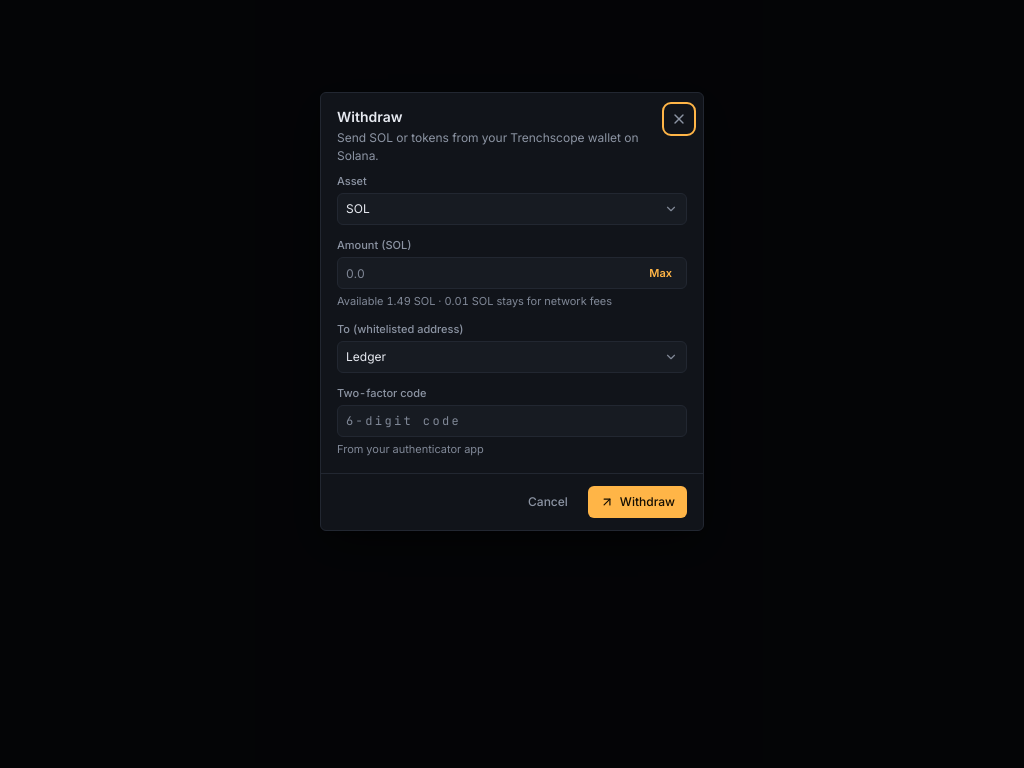
Test: WithdrawDialog form › Max keeps the fee reserve; too much, no code and bad input are refused before sending
expect the button named "To (whitelisted address) Ledger" is shown: met, box [337,341,687,373]
expect the text "Available 1.49 SOL · 0.01 SOL stays for network fees" is shown: met, box [337,294,612,308]
Click the button with aria-label "Withdraw the maximum" at (661, 273), box [643,263,678,283]
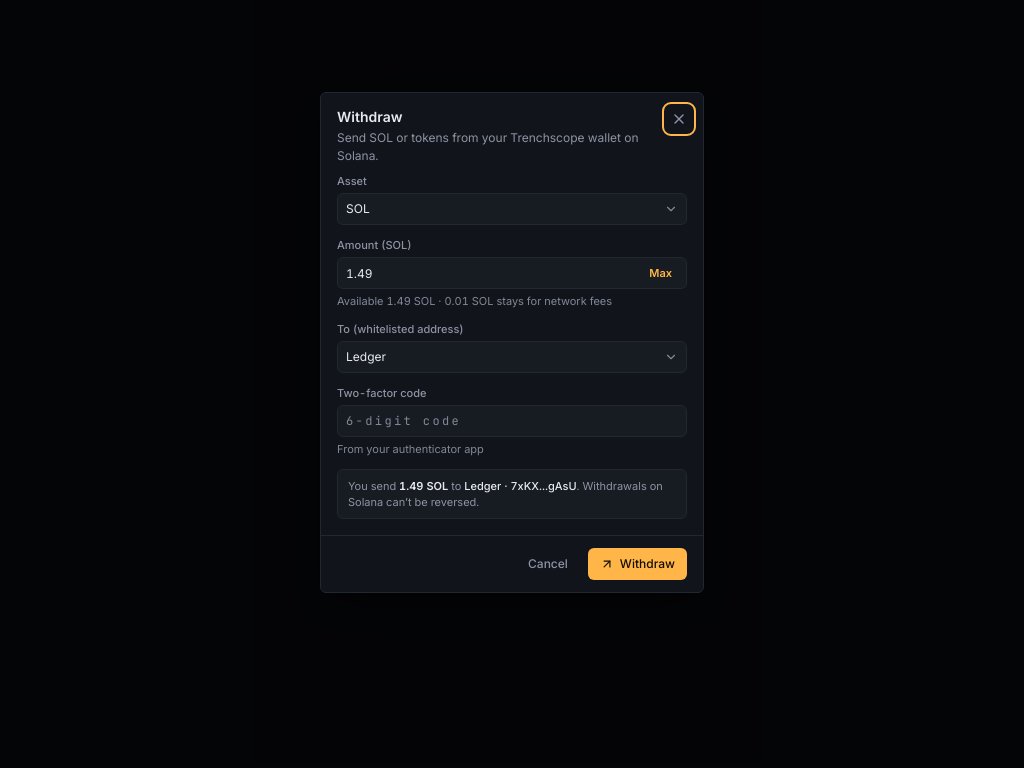
expect the field labelled "Amount (SOL)" holds "1.49": met
Replace the text in the field labelled "Amount (SOL)" with "1.495" at (492, 273), box [346,258,637,288]
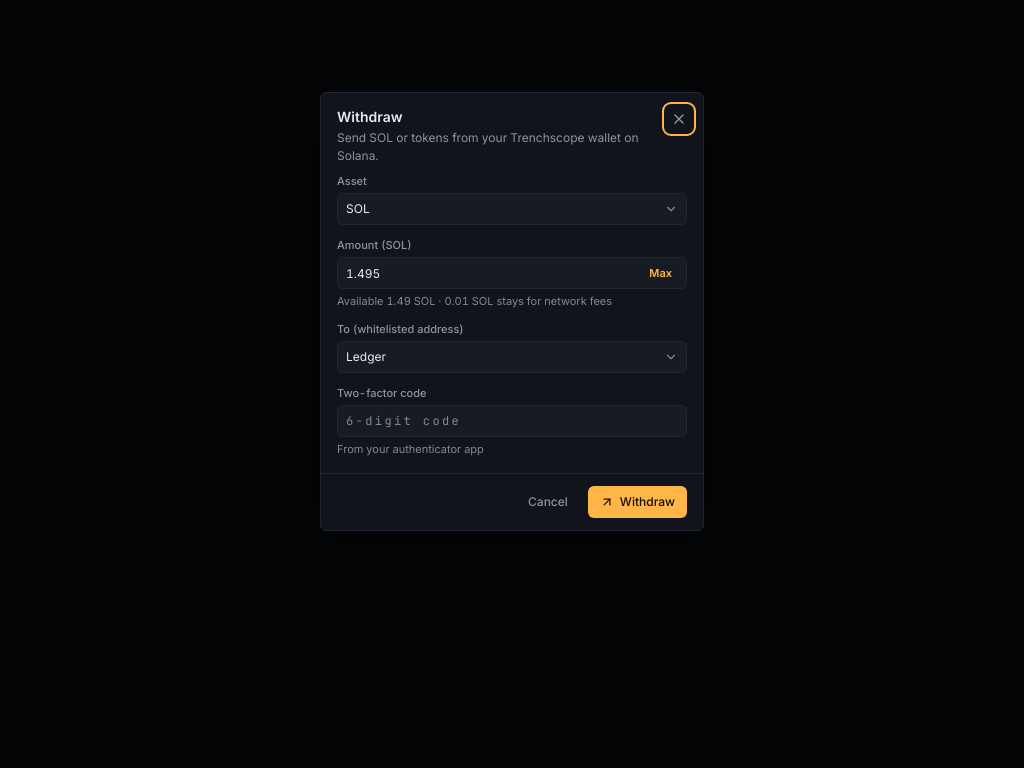
Click the button "Withdraw" at (637, 502), box [588,486,687,518]
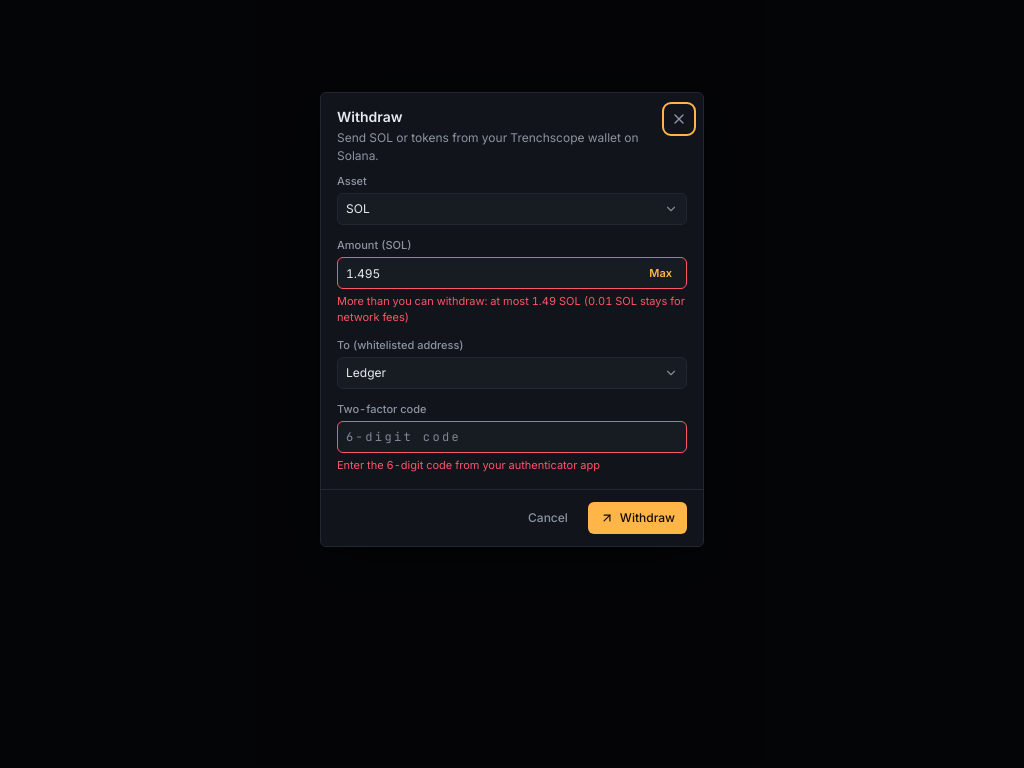
expect the text "More than you can withdraw: at most 1.49 SOL (0.01 SOL stays for network fees)" is shown: met, box [337,293,687,325]
expect the text "Enter the 6-digit code from your authenticator app" is shown: met, box [337,458,600,472]
Replace the text in the field labelled "Amount (SOL)" with "1,5abc" at (492, 273), box [346,258,637,288]
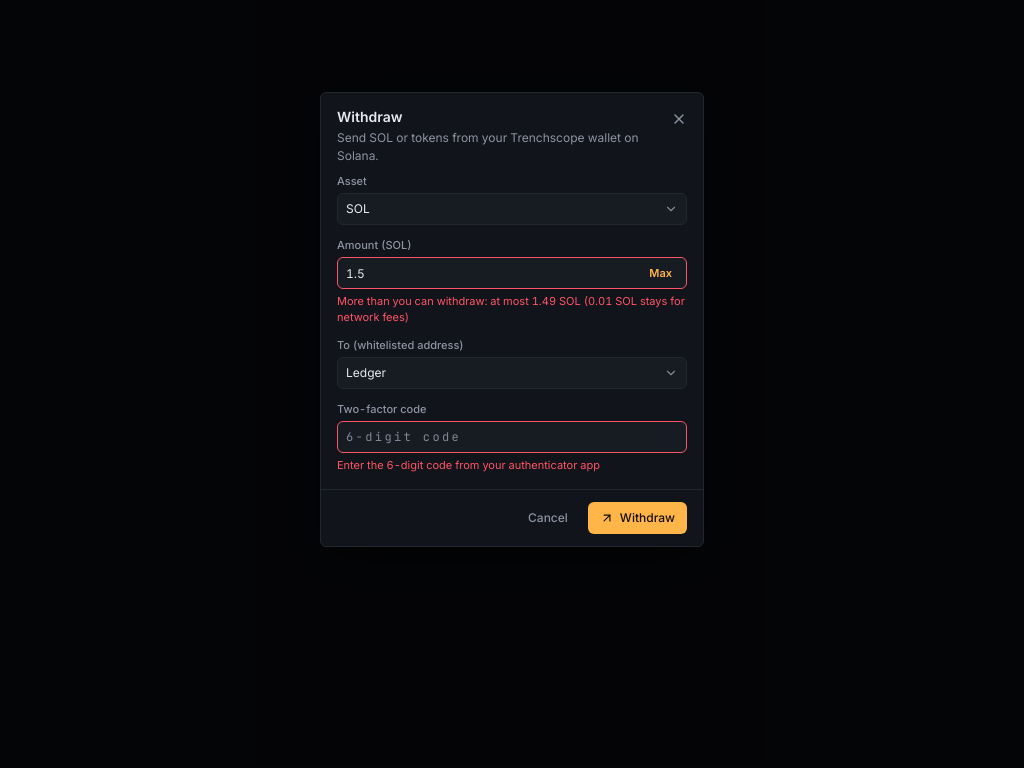
expect the field labelled "Amount (SOL)" holds "1.5": met, box [346,258,637,288]
